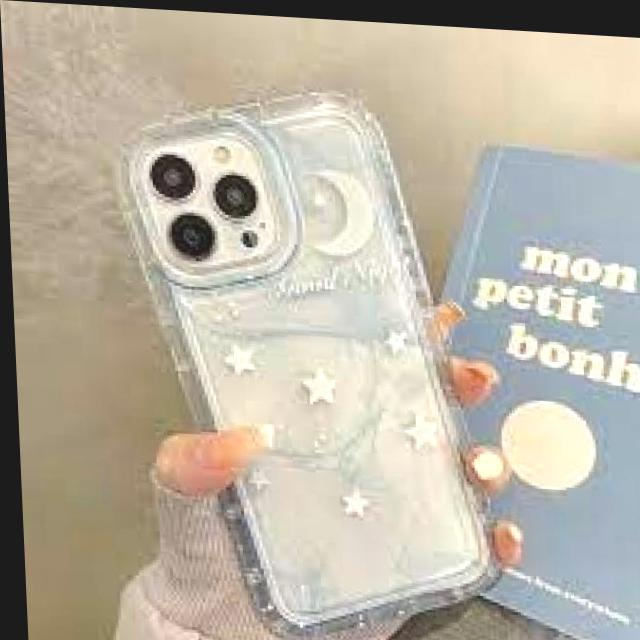Smartphone: (114, 75, 507, 640)
